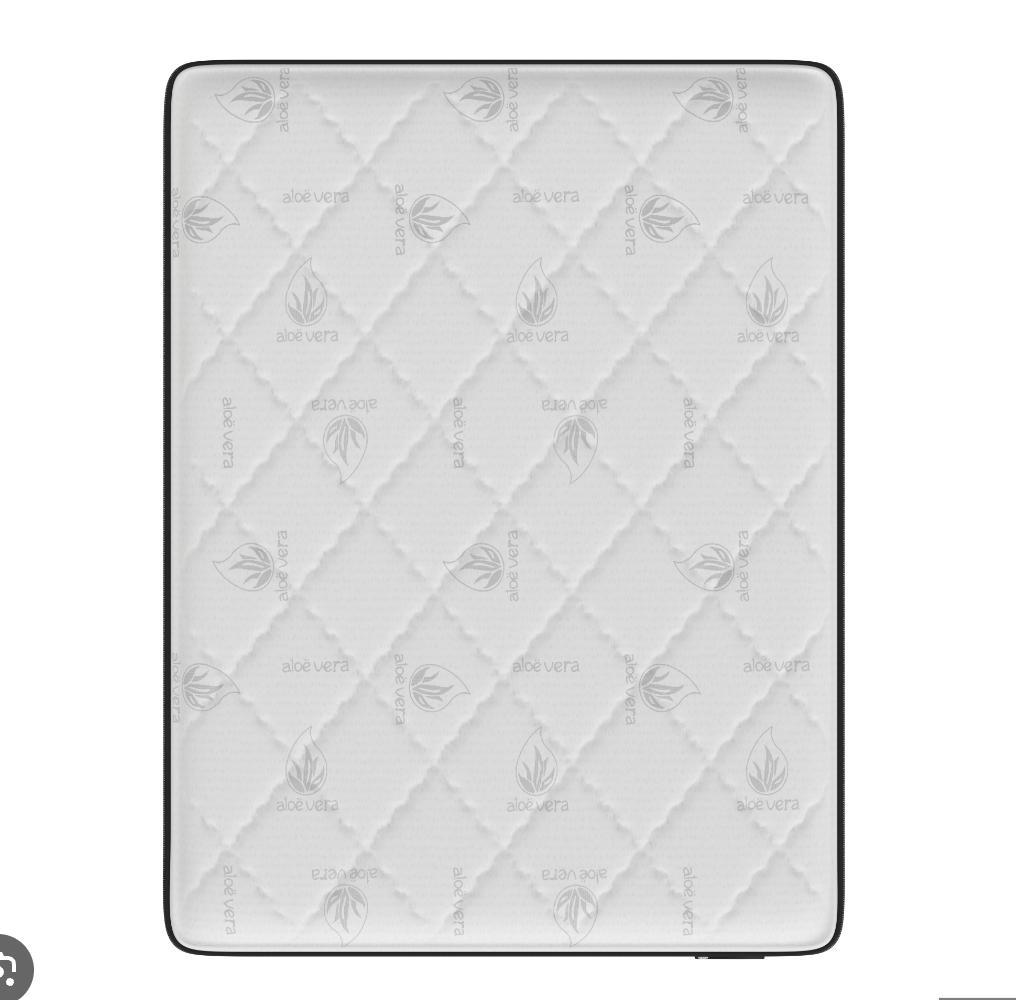Bed-Mattress: (155, 49, 850, 971)
